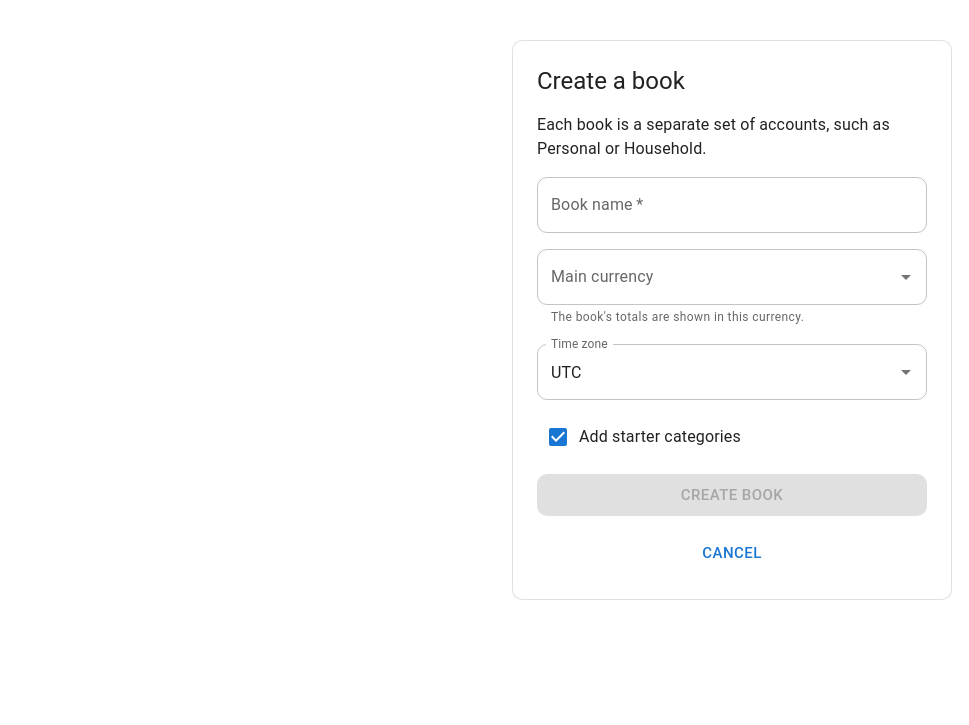
Test: Create a book (waterflow#21) › goes to the first book when it was opened directly
Click the button "Cancel" at {"x": 732, "y": 554}, box x1=537 y1=532 x2=927 y2=575
(page scrolled)
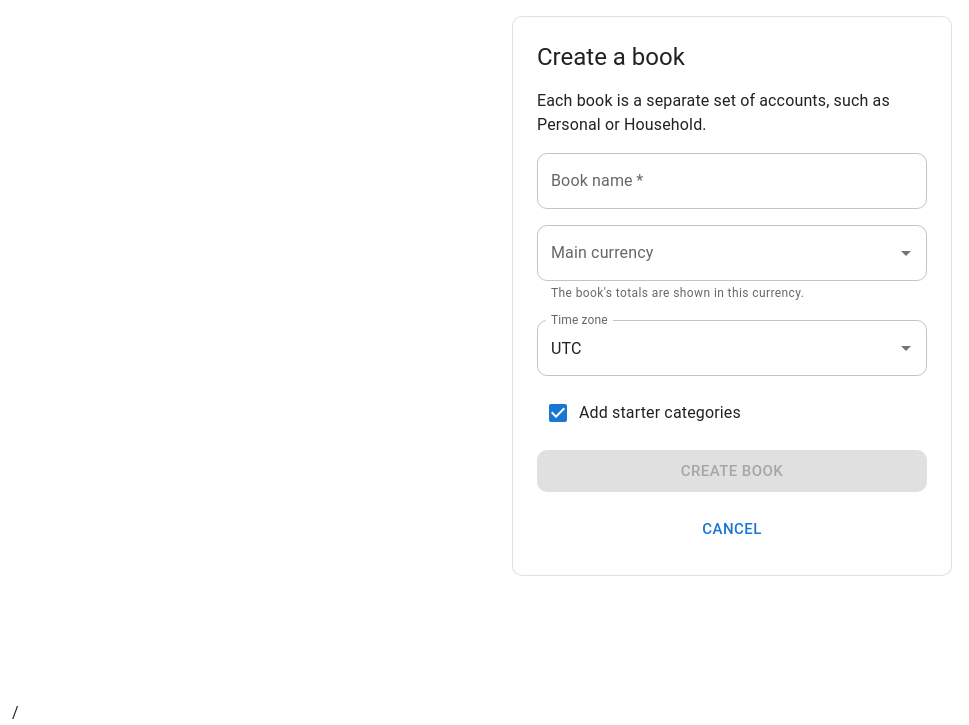
Expected: the text with test id "where" reads "/", x1=12 y1=703 x2=19 y2=722
